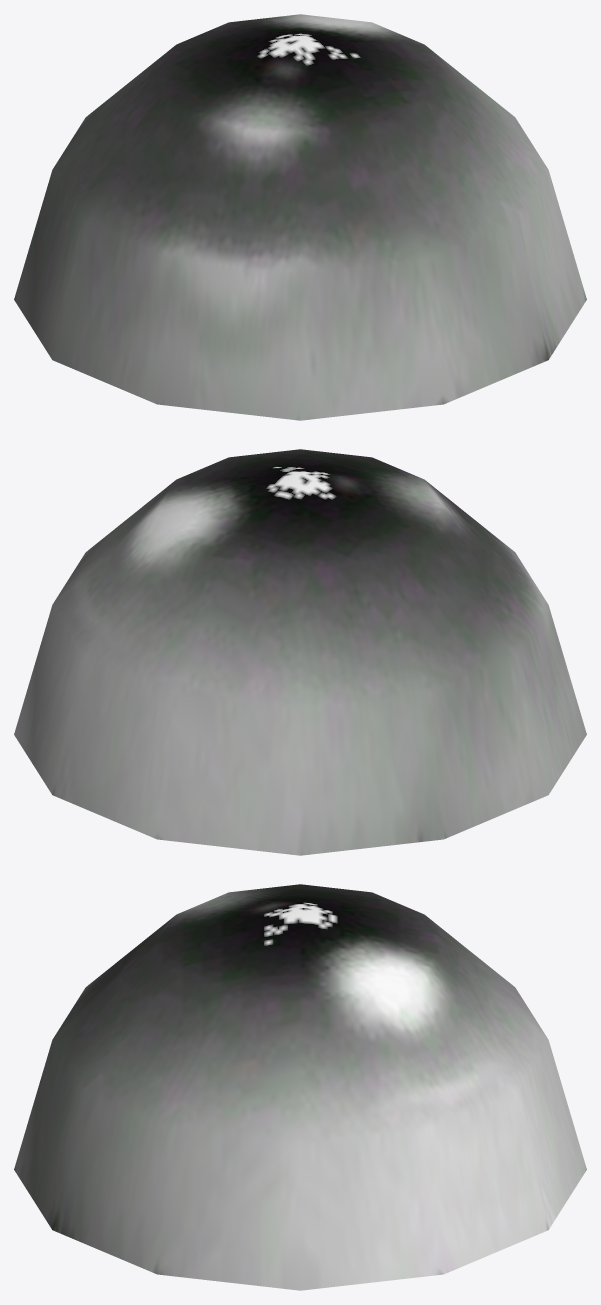
File: bubble.FBX
3 renders of one model, top to bottom at view 1: azimuth 30°, elevation 25°; view 2: azimuth 150°, elevation 25°; view 3: azimuth 270°, elevation 25°, orthographic.
Parts seen in each view (by area): view 1: bubble001; view 2: bubble001; view 3: bubble001.
Boxes of the visible parts, x1,y1,x2,y2 form: bubble001: [14, 14, 586, 420]; bubble001: [14, 449, 586, 855]; bubble001: [14, 884, 586, 1290].
Size of the model in its own units: 0.0602 by 0.0602 by 0.0301.
1 material, 1 textured.
